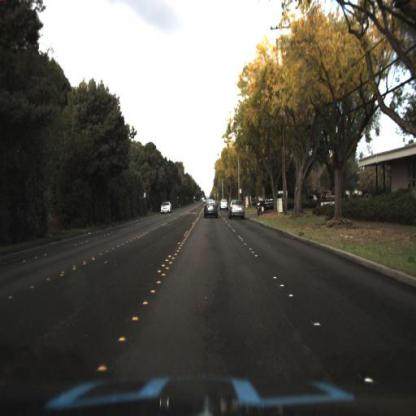car: (255, 191, 285, 215), (226, 195, 249, 223), (200, 196, 222, 221), (160, 199, 175, 219), (159, 201, 173, 218), (221, 196, 231, 212)
